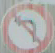Don't turn left: (2, 1, 52, 52)
